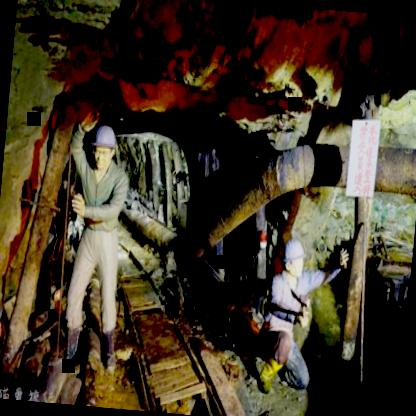helmet: (84, 118, 119, 174), (280, 235, 307, 282)
